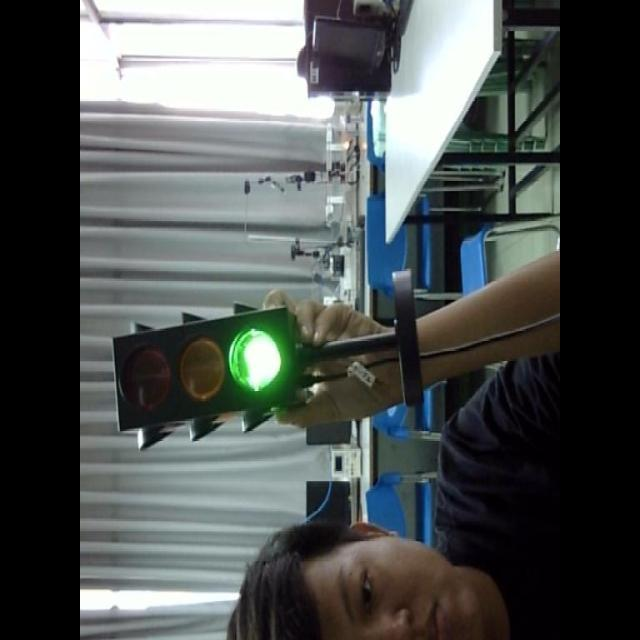green_light: (114, 307, 298, 428)
